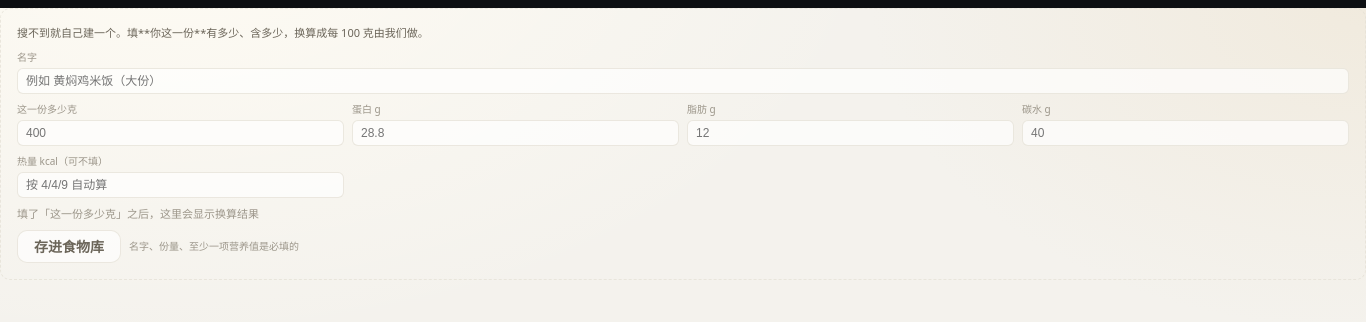
Scenario: 新建食物 · 换算口径 › 后端拒绝时把中文原因显示出来
Expected: the label "名字" is shown, [17, 50, 1349, 94]
Type "X" into the field labelled "名字". click: x=683, y=80
box: [17, 68, 1349, 94]
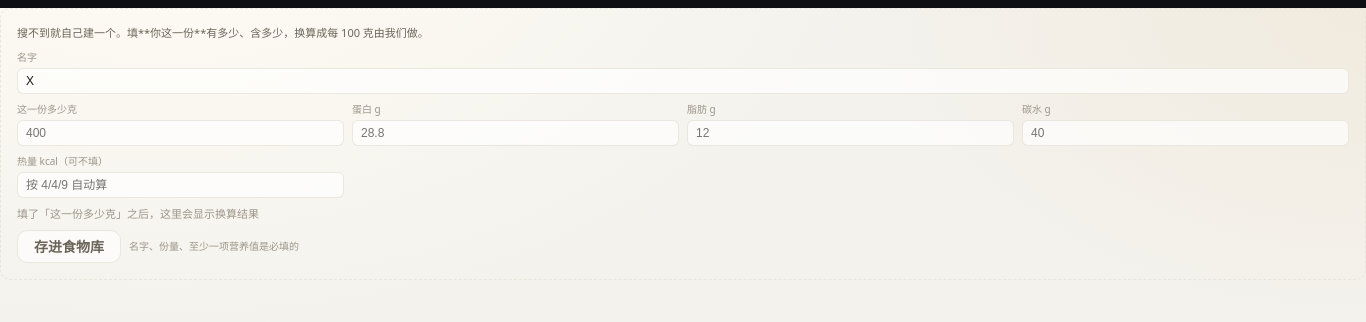
Expected: the label "这一份多少克" is shown, [17, 102, 344, 146]
Type "100" into the number field labelled "这一份多少克". click: x=180, y=132
box: [17, 120, 344, 146]
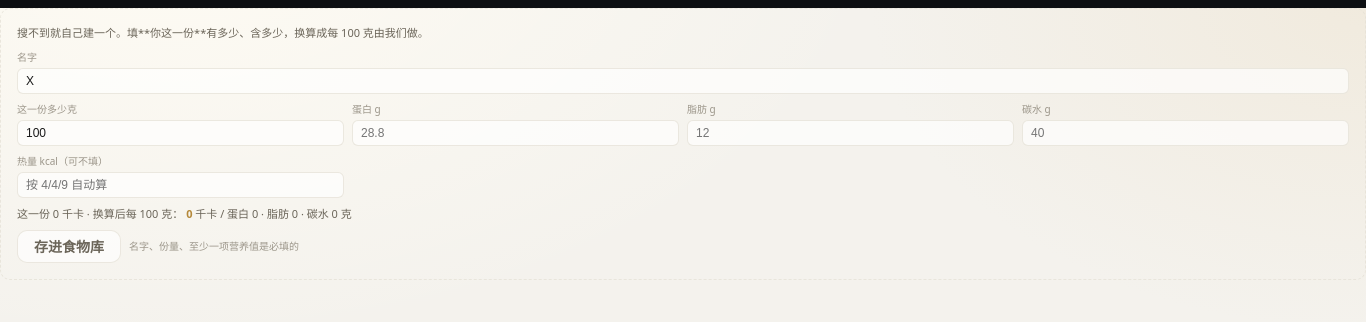
Expected: the label "蛋白 g" is shown, [352, 102, 679, 146]
Type "5" into the number field labelled "蛋白 g". click: x=516, y=132
box: [352, 120, 679, 146]
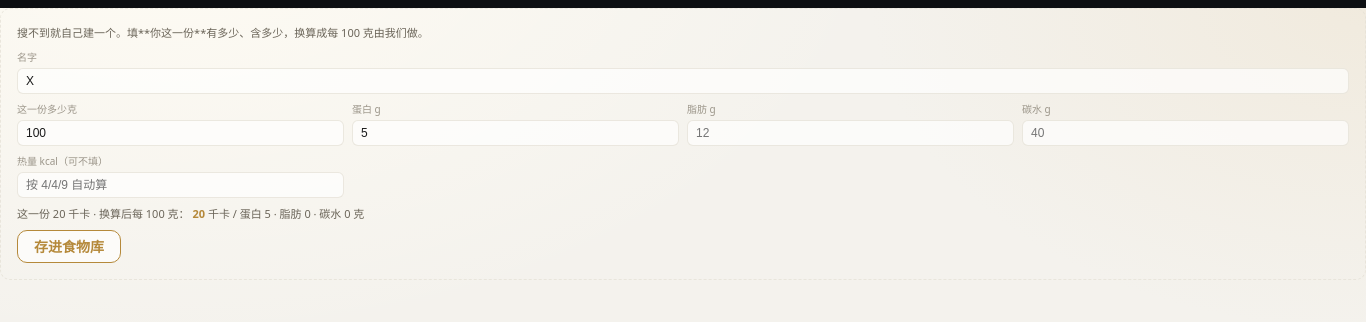
Click the button with class "save". click: x=69, y=246
box: [17, 230, 121, 263]
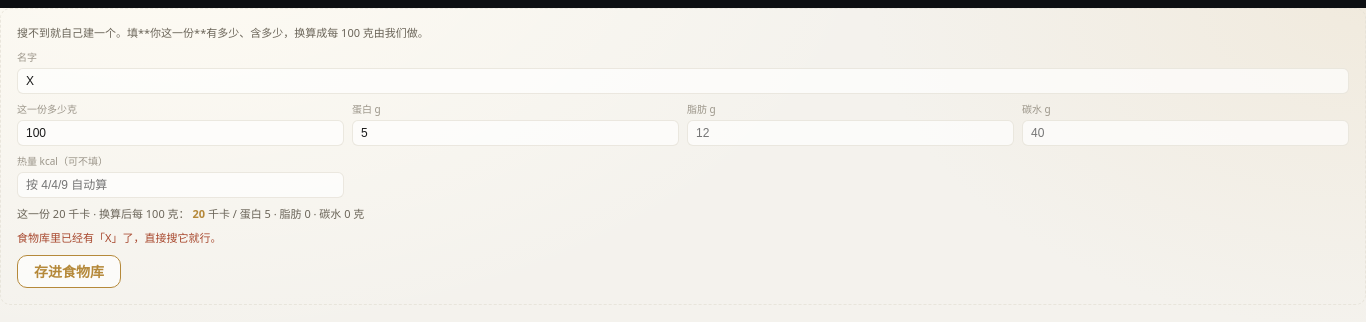
Result: the text with class "err" shows "已经有" at [17, 230, 222, 245]
